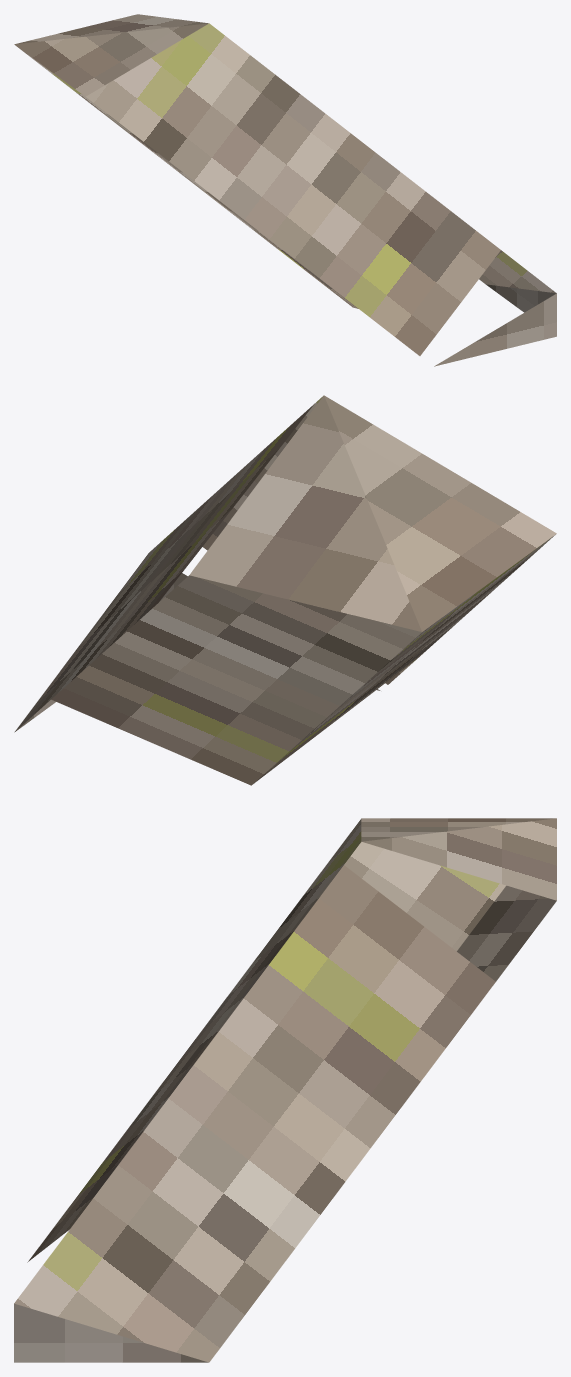
Rendered from ash_branch_45_diagonal.obj.
3 views of the same model, one above another, from view 1: azimuth 30°, elevation 25°; view 2: azimuth 150°, elevation 25°; view 3: azimuth 270°, elevation 25° (orthographic). The views are drawn at different scales.
Visible parts, largest first — view 1: cube; view 2: cube; view 3: cube.
Part boxes in pixels (left/top/right/bottom): cube: left=14, top=14, right=556, bottom=366; cube: left=14, top=395, right=556, bottom=785; cube: left=14, top=818, right=556, bottom=1362.
Bounding box in the file's own units: 1.56 × 1.19 × 1.56.
